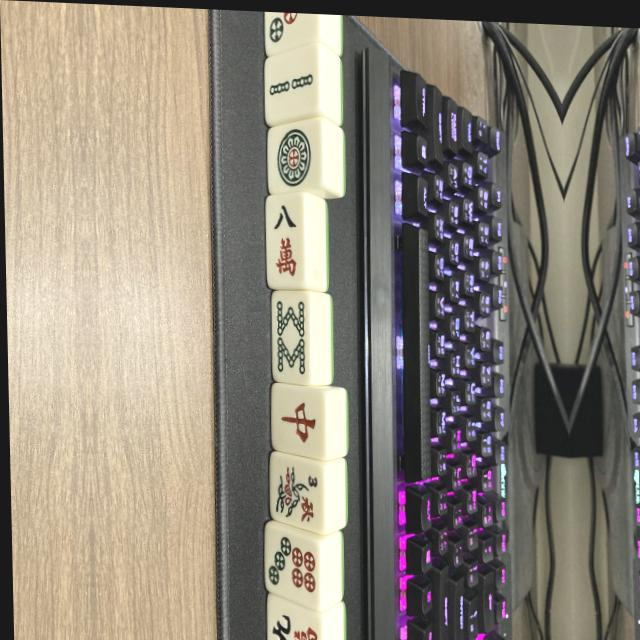ff3: (270, 455, 323, 531)
m8: (268, 195, 306, 292)
m9: (268, 600, 321, 640)
s2: (264, 49, 318, 125)
s8: (273, 292, 312, 383)
t1: (268, 119, 322, 198)
t3: (265, 12, 318, 56)
t7: (266, 529, 321, 609)
zhong: (271, 385, 326, 458)
